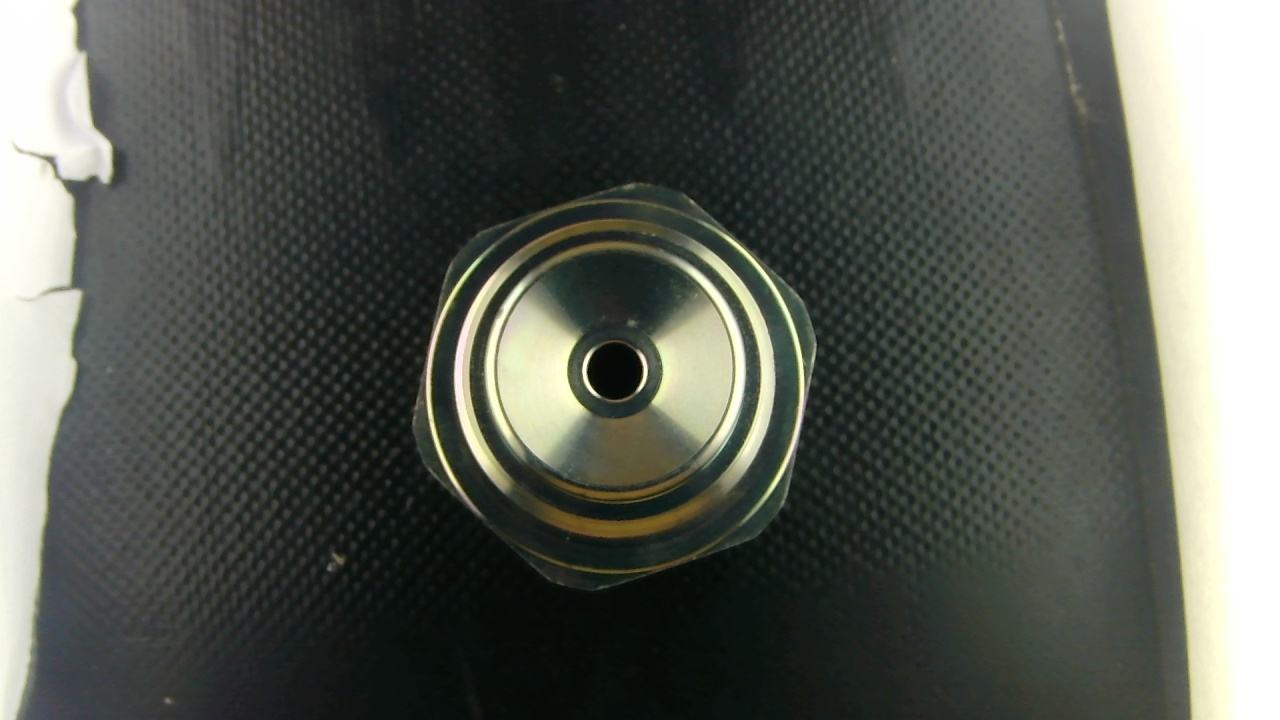Capnut_Okay: (413, 184, 815, 589)
